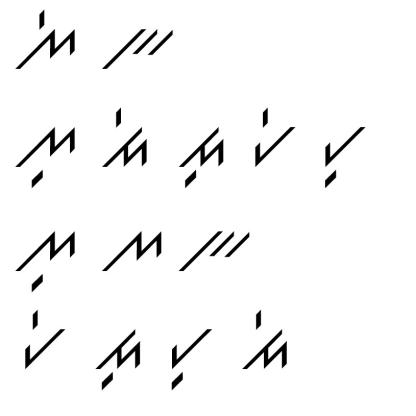de: (241, 307, 295, 377), (102, 104, 154, 176)
du: (93, 316, 145, 393), (176, 123, 228, 190)
na: (98, 222, 166, 285)
ne: (14, 10, 81, 69)
nu: (12, 115, 82, 190), (10, 224, 81, 294)
pe: (16, 306, 69, 370), (251, 106, 298, 170)
pu: (160, 324, 216, 392), (322, 121, 371, 194)
